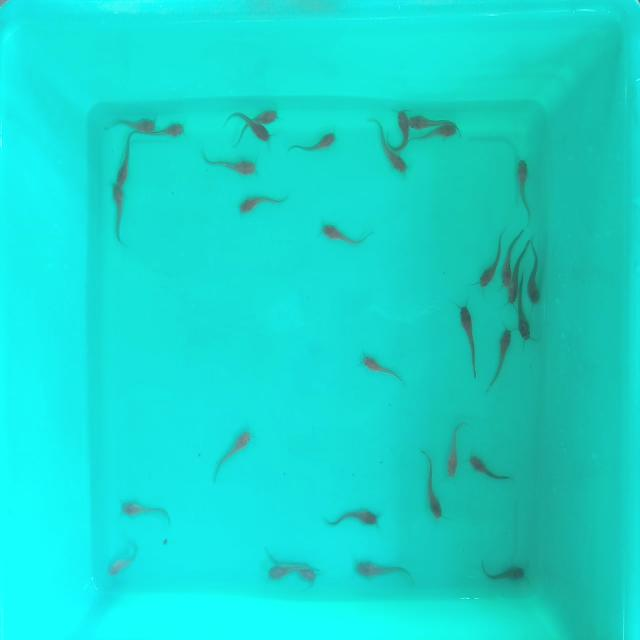lele: (210, 428, 258, 484), (485, 327, 515, 387), (198, 151, 258, 179), (357, 351, 405, 384), (466, 450, 512, 484), (319, 222, 373, 250), (476, 228, 499, 288), (284, 133, 338, 157), (458, 304, 476, 376), (104, 546, 142, 580), (515, 158, 534, 222), (424, 453, 442, 519), (526, 240, 544, 304), (357, 559, 412, 579), (446, 423, 464, 479), (328, 511, 382, 529), (119, 500, 173, 518), (389, 100, 409, 148), (238, 194, 290, 212), (368, 150, 408, 173), (231, 108, 282, 125), (104, 114, 158, 130), (408, 106, 442, 130), (114, 135, 130, 185), (482, 562, 524, 580), (517, 290, 531, 342), (113, 185, 125, 245), (257, 562, 293, 581), (501, 230, 513, 287), (240, 124, 272, 144), (508, 253, 520, 303), (294, 560, 318, 585), (157, 122, 189, 140), (427, 124, 460, 140)
